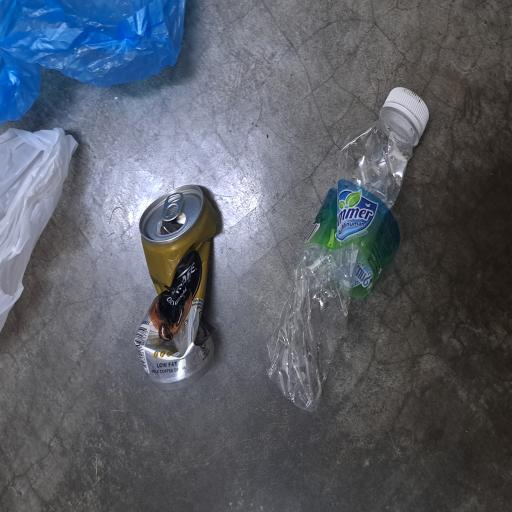can: (95, 175, 249, 312)
plastic bag: (287, 0, 384, 247), (136, 0, 288, 110)
plastic bottle: (75, 350, 293, 512)
pop tab: (214, 207, 241, 247)
